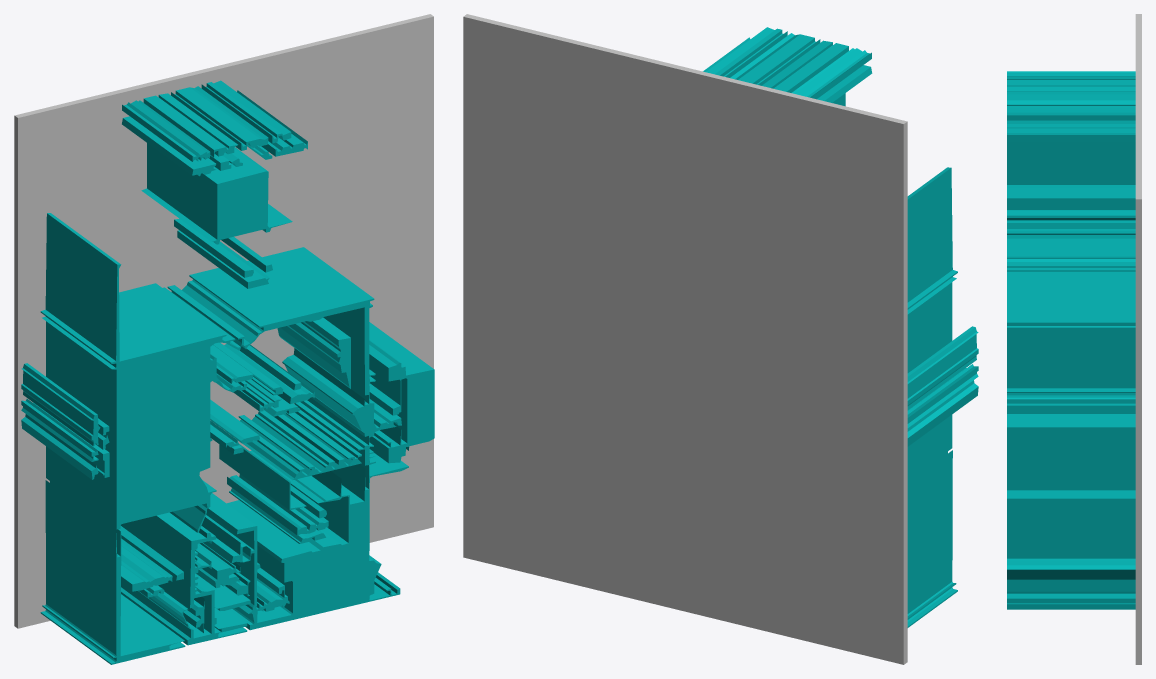
3 renders of one model, left to right at view 1: azimuth 30°, elevation 25°; view 2: azimuth 150°, elevation 25°; view 3: azimuth 270°, elevation 25°, orthographic. The views are drawn at different scales.
Visible parts, largest first — view 1: world; view 2: world; view 3: world.
Boxes of the visible parts, left/top/right/bottom form: world: left=14, top=14, right=434, bottom=664; world: left=463, top=14, right=978, bottom=664; world: left=1007, top=14, right=1141, bottom=664.
Size of the model in its own units: 10.23 by 12 by 3.15.
